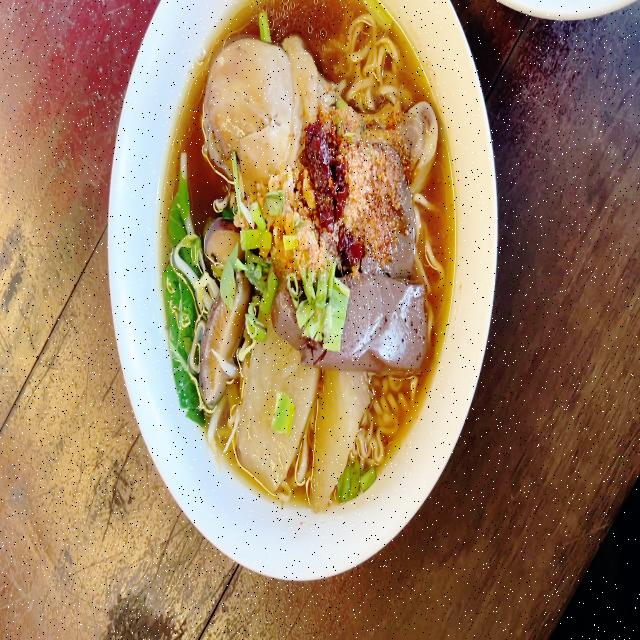boiled_chicken_blood_jelly: (336, 279, 430, 376)
chicken_drumstick: (198, 38, 440, 206)
daikon_radish: (242, 339, 359, 487)
noodle: (141, 0, 465, 526)
